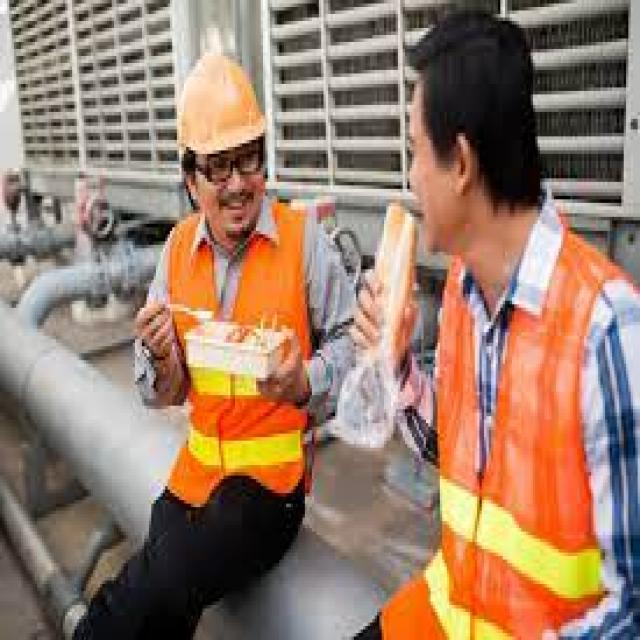Reflective-Jacket: (410, 214, 638, 636), (158, 199, 324, 518)
Safety-Helmet: (168, 42, 274, 164)
